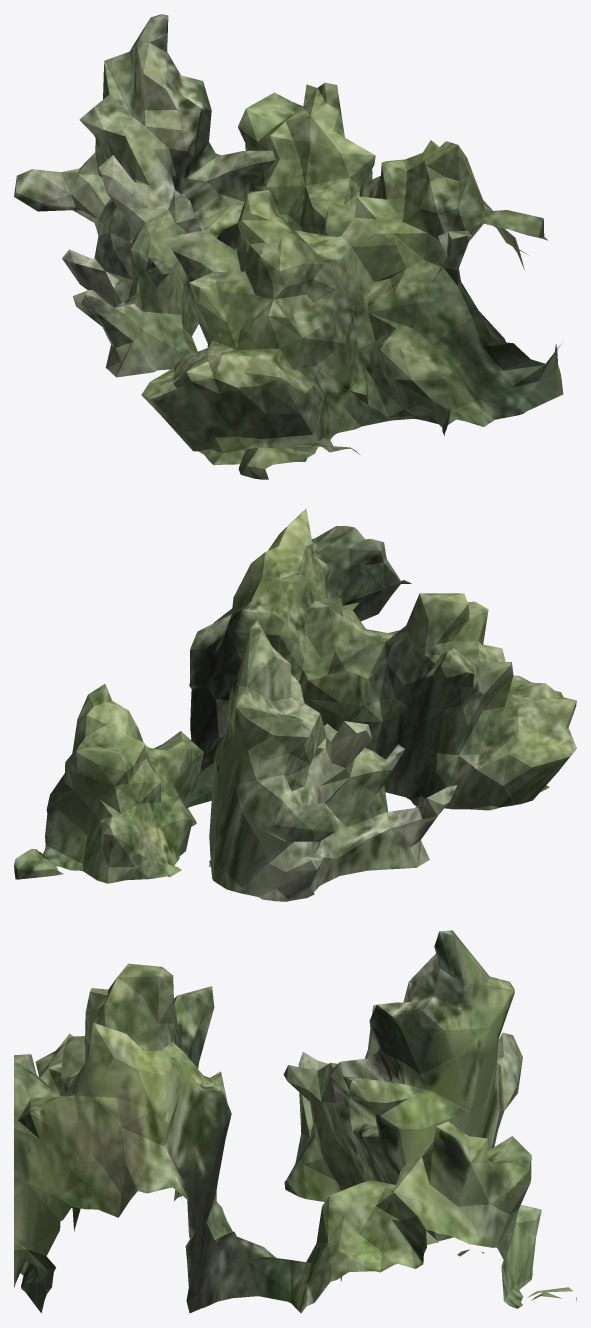
3 renders of one model, top to bottom at view 1: azimuth 30°, elevation 25°; view 2: azimuth 150°, elevation 25°; view 3: azimuth 270°, elevation 25°, orthographic. The views are drawn at different scales.
Size of the model in its own units: 7.29 by 5.16 by 9.24.
Materials: 3 (3 with a texture image).
